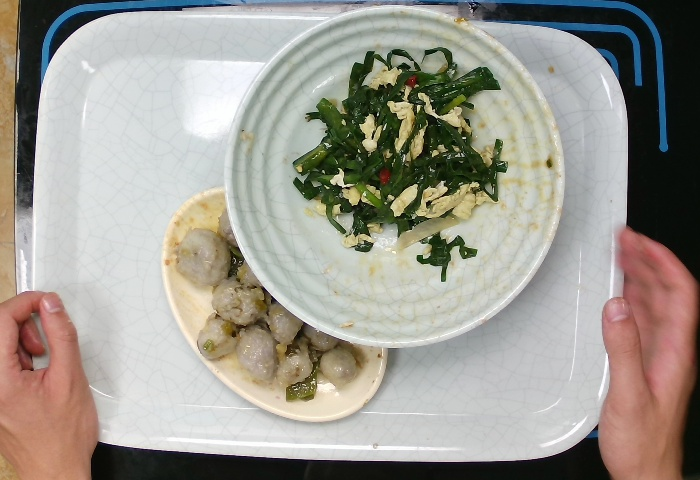JYsf-Da_Tang_Wan: (223, 1, 560, 346)
JYsf-Tuo_Yuan_Wan: (158, 184, 393, 427)
